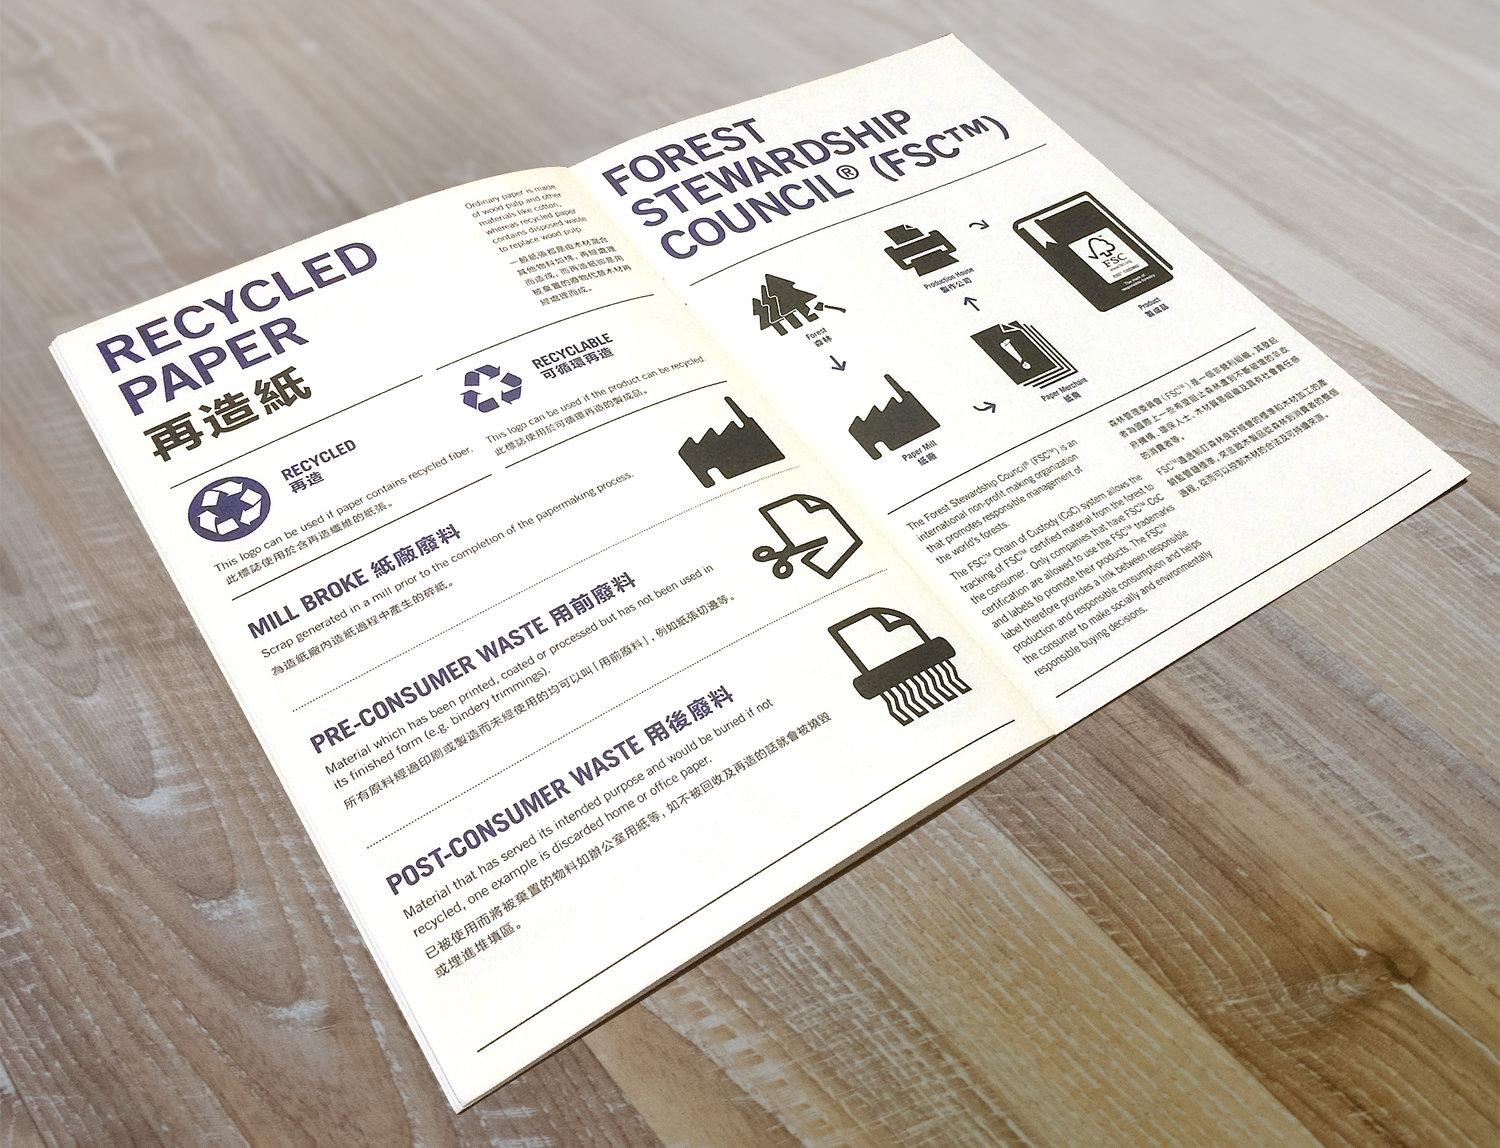paper: (54, 39, 1463, 1107)
